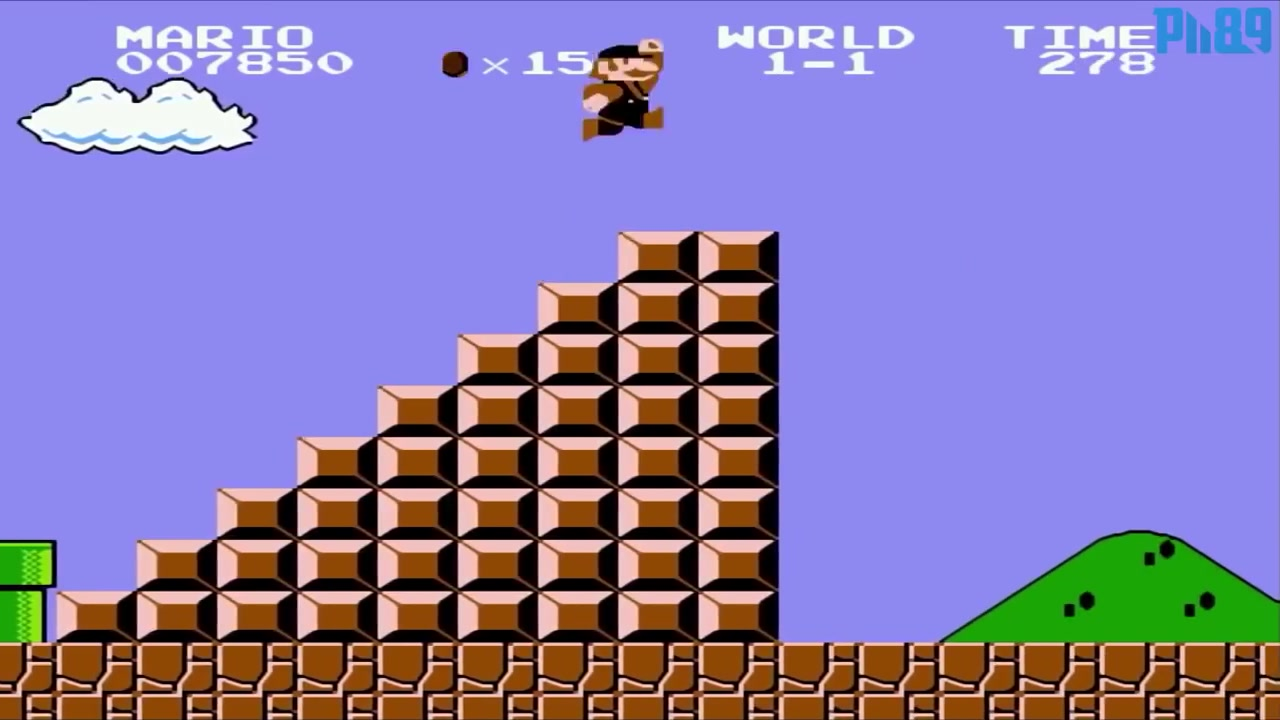mario: (559, 30, 692, 148)
